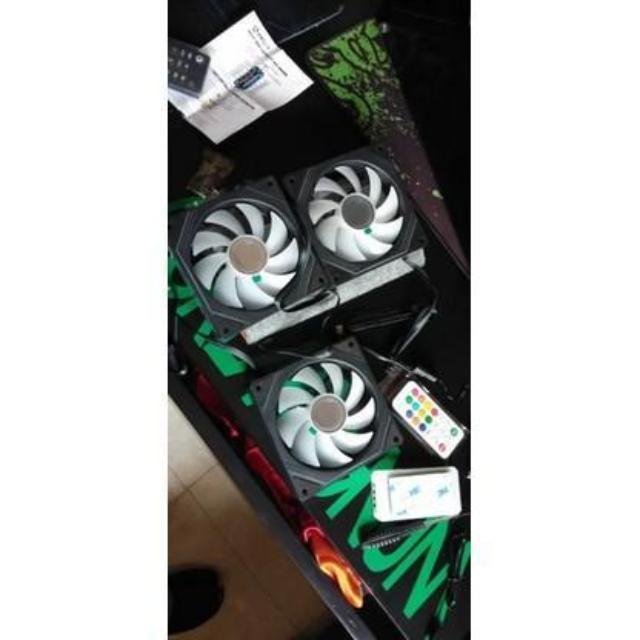CPU_Fan: (170, 146, 482, 509)
